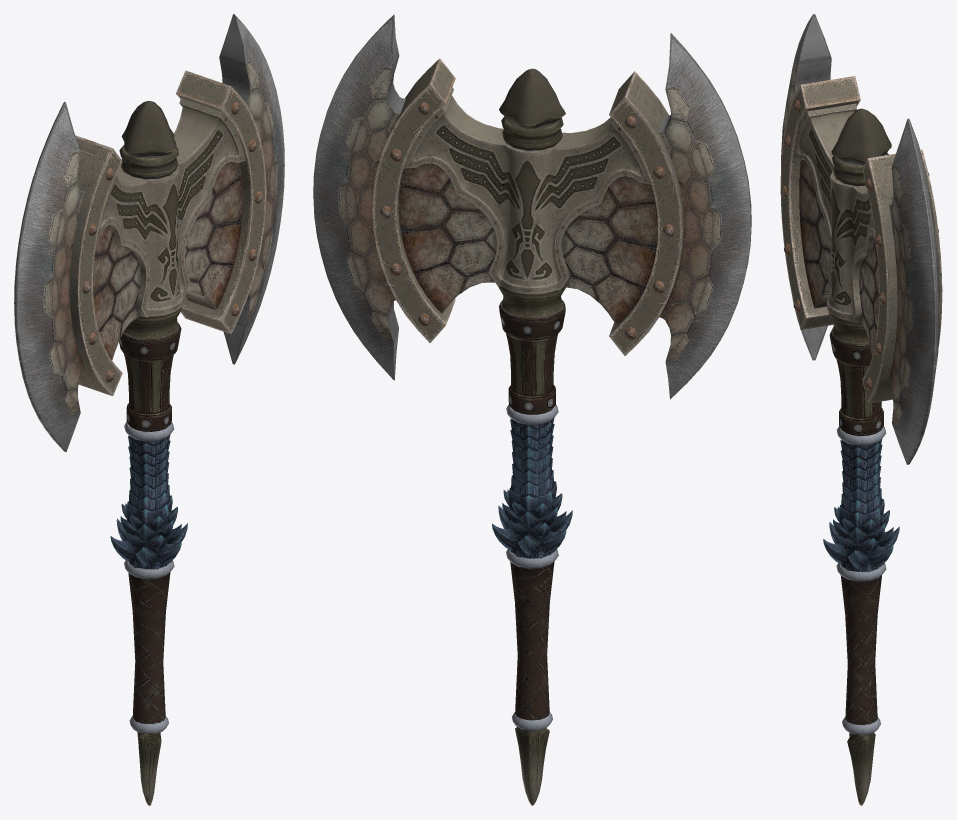
Rendered from sou006.obj.
3 views of the same model, side by side, from view 1: azimuth 30°, elevation 25°; view 2: azimuth 150°, elevation 25°; view 3: azimuth 270°, elevation 25° (orthographic). The views are drawn at different scales.
Visible parts, largest first — view 1: sou006_000_LOD_1; view 2: sou006_000_LOD_1; view 3: sou006_000_LOD_1.
Part boxes in pixels (bbox=[...]): sou006_000_LOD_1: bbox=[14, 14, 284, 805]; sou006_000_LOD_1: bbox=[313, 14, 751, 805]; sou006_000_LOD_1: bbox=[780, 14, 942, 805].
Bounding box in the file's own units: 49.84 × 103 × 20.55.
